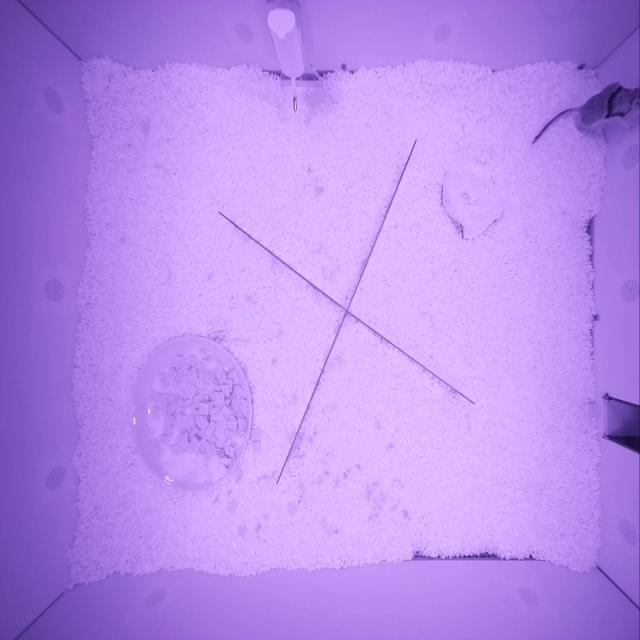adult_front: (576, 81, 640, 126)
